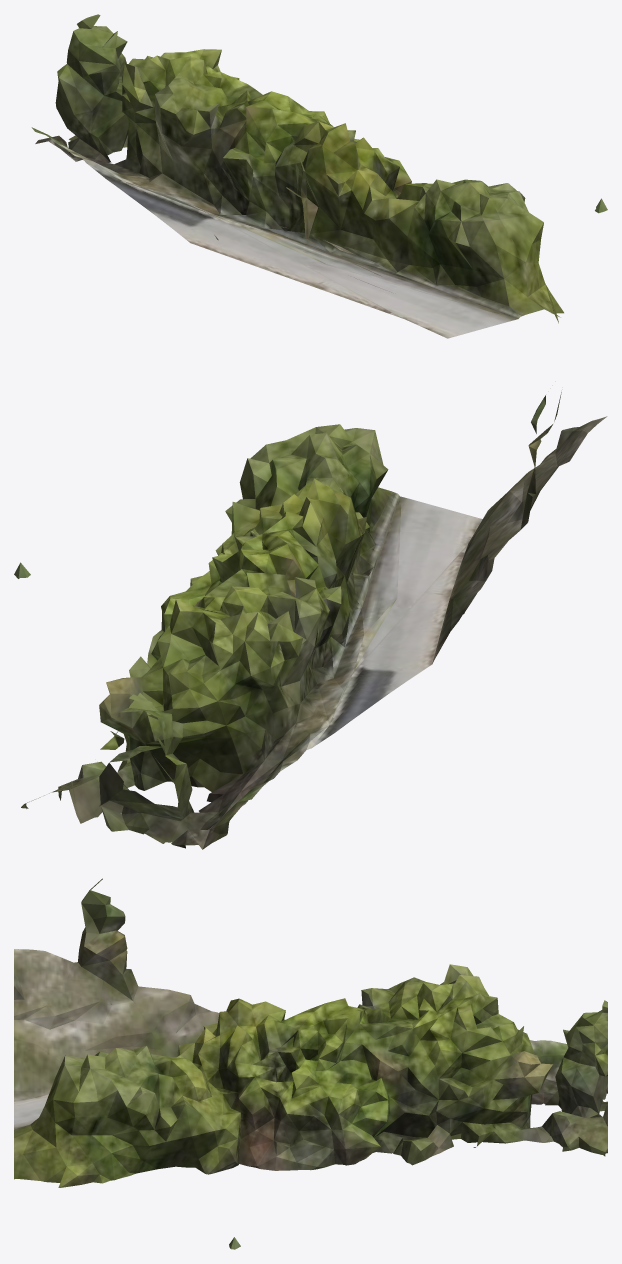
The picture shows the model from 3 angles, top to bottom: view 1: azimuth 30°, elevation 25°; view 2: azimuth 150°, elevation 25°; view 3: azimuth 270°, elevation 25°; orthographic projection. The views are drawn at different scales.
Bounding box in the file's own units: 32.34 × 17.46 × 47.19.
Materials: 2 (2 with a texture image).
